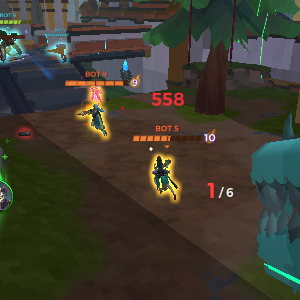model: (151, 153, 181, 202), (85, 102, 107, 138), (90, 84, 104, 108)
